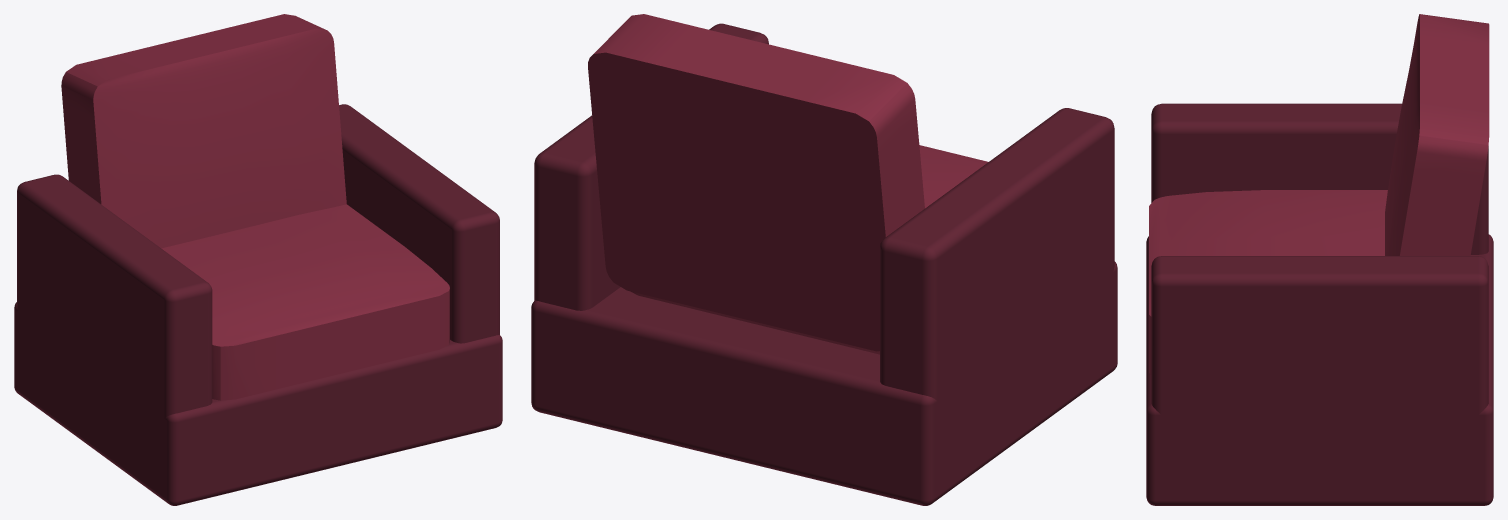
The model's file is single-sofa.glb.
3 renders of one model, left to right at view 1: azimuth 30°, elevation 25°; view 2: azimuth 150°, elevation 25°; view 3: azimuth 270°, elevation 25°, orthographic. The views are drawn at different scales.
Parts seen in each view (by area): view 1: merged-One-piece grounded upholstered sofa base, merged-One-piece structured sofa seat cushion; view 2: merged-One-piece grounded upholstered sofa base, merged-One-piece structured sofa seat cushion; view 3: merged-One-piece grounded upholstered sofa base, merged-One-piece structured sofa seat cushion.
Part boxes in pixels (bbox=[...]): merged-One-piece grounded upholstered sofa base: bbox=[14, 104, 502, 505]; merged-One-piece structured sofa seat cushion: bbox=[61, 14, 449, 400]; merged-One-piece grounded upholstered sofa base: bbox=[531, 23, 1117, 505]; merged-One-piece structured sofa seat cushion: bbox=[588, 14, 988, 354]; merged-One-piece grounded upholstered sofa base: bbox=[1146, 103, 1493, 505]; merged-One-piece structured sofa seat cushion: bbox=[1149, 14, 1489, 374].
Size of the model in its own units: 0.82 by 0.7565 by 0.68.
